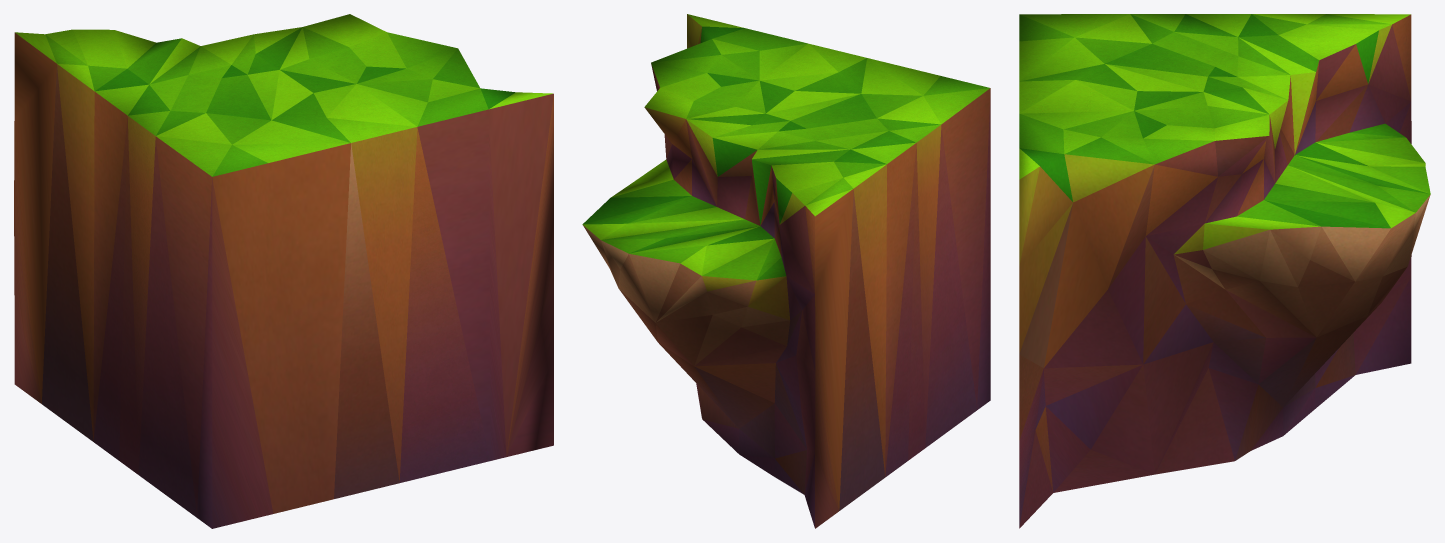
Rendered from Terrain-part-14.fbx.
The picture shows the model from 3 angles, left to right: view 1: azimuth 30°, elevation 25°; view 2: azimuth 150°, elevation 25°; view 3: azimuth 270°, elevation 25°; orthographic projection. The views are drawn at different scales.
Visible parts, largest first — view 1: Terrain-part-14; view 2: Terrain-part-14; view 3: Terrain-part-14.
Part boxes in pixels (left/top/right/bottom): Terrain-part-14: left=14, top=14, right=553, bottom=528; Terrain-part-14: left=582, top=14, right=990, bottom=528; Terrain-part-14: left=1019, top=14, right=1430, bottom=528.
Bounding box in the file's own units: 3 × 3 × 3.15.
